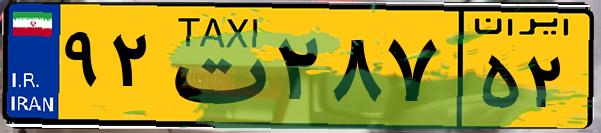2: (270, 28, 330, 110), (525, 38, 570, 115), (110, 28, 158, 98)
5: (475, 38, 525, 113)
7: (385, 28, 445, 110)
8: (330, 28, 385, 110)
9: (57, 26, 110, 100)
ت: (158, 12, 270, 120)
